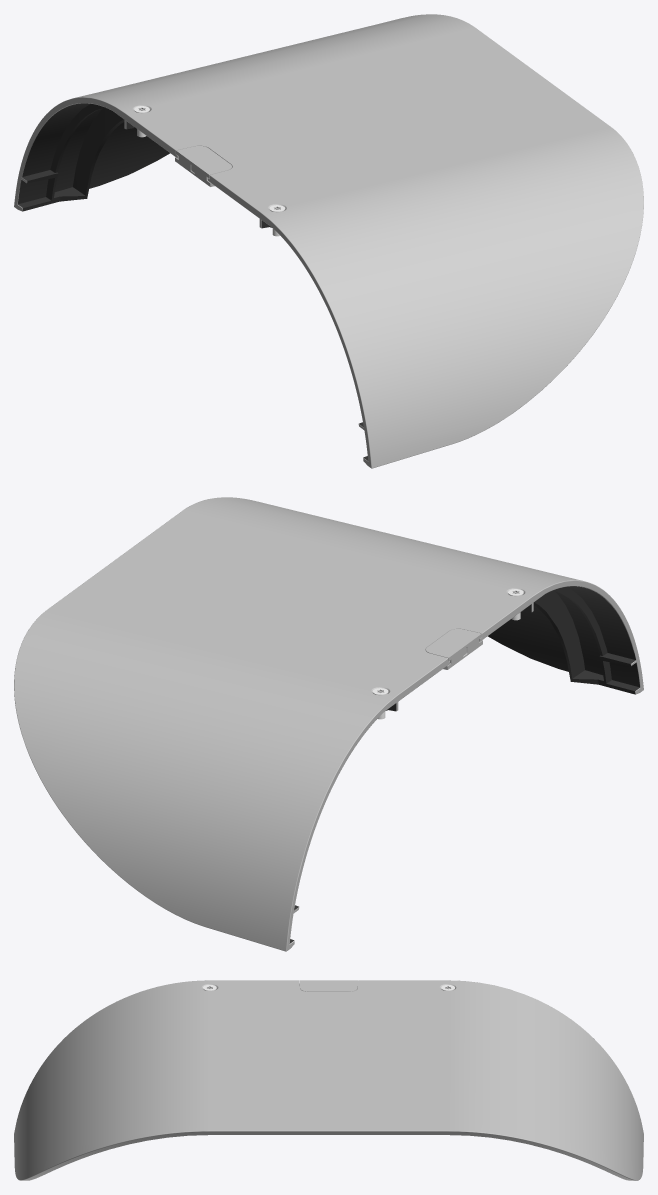
The model's file is uacc-ai-ms-2-ws.glb.
3 renders of one model, top to bottom at view 1: azimuth 30°, elevation 25°; view 2: azimuth 150°, elevation 25°; view 3: azimuth 270°, elevation 25°, orthographic. The views are drawn at different scales.
Visible parts, largest first — view 1: Main, Seal; view 2: Main, Seal; view 3: Main, Seal.
Boxes of the visible parts, x1=… form: Main: x1=14, y1=14, x2=643, y2=468; Seal: x1=175, y1=146, x2=231, y2=186; Main: x1=14, y1=497, x2=643, y2=951; Seal: x1=426, y1=629, x2=482, y2=669; Main: x1=14, y1=980, x2=643, y2=1180; Seal: x1=299, y1=980, x2=358, y2=991.
Size of the model in its own units: 0.1288 by 0.0615 by 0.2275.
4 materials, 1 textured.
